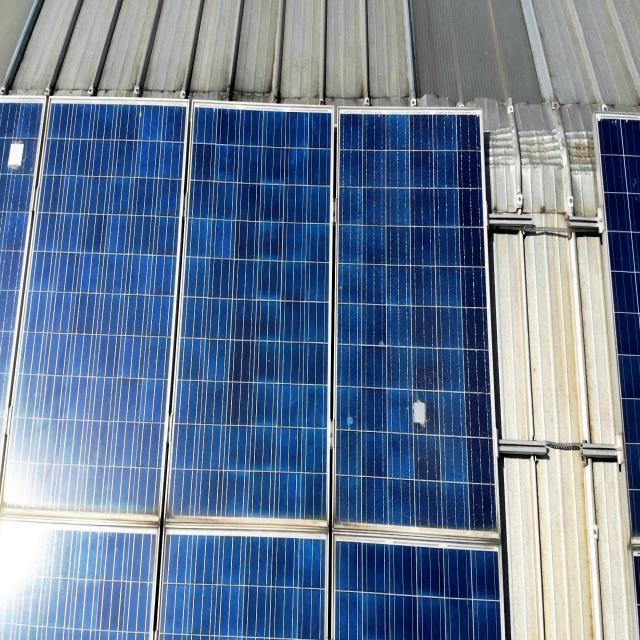faulty: (331, 111, 498, 537), (0, 95, 44, 188)
no faulty: (0, 99, 192, 519), (168, 100, 334, 528)
